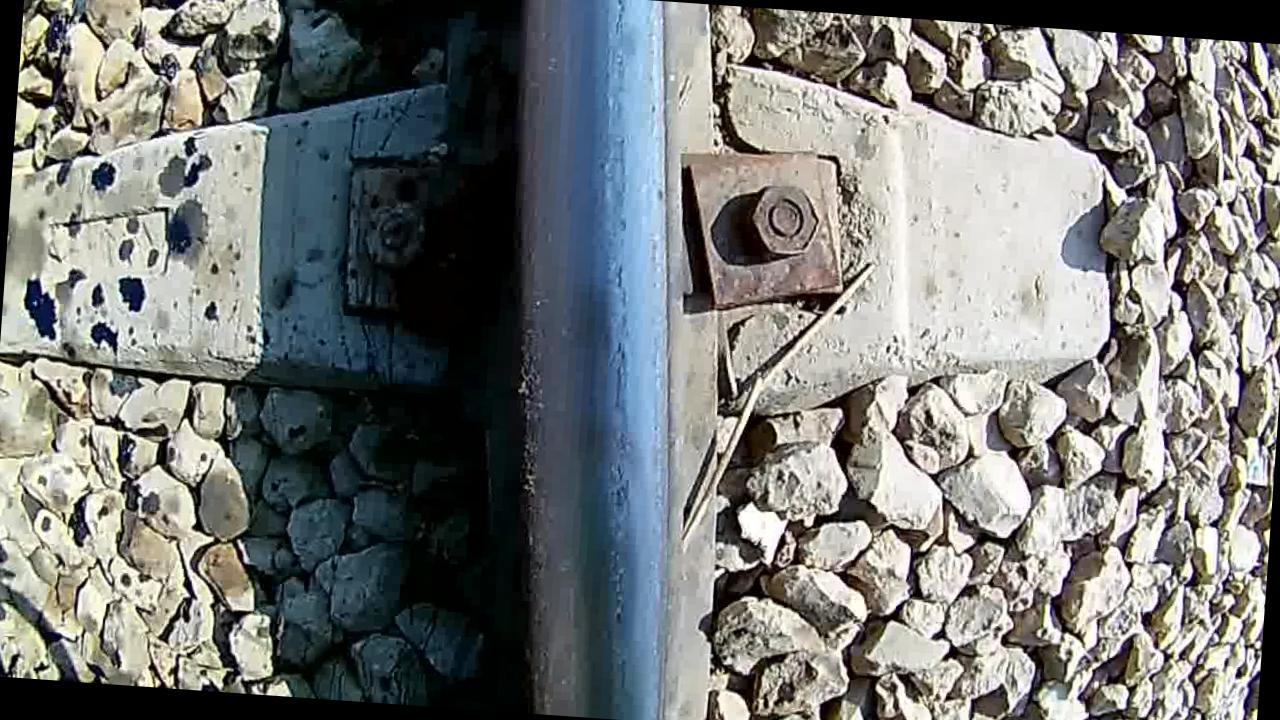crack: (483, 10, 692, 720)
